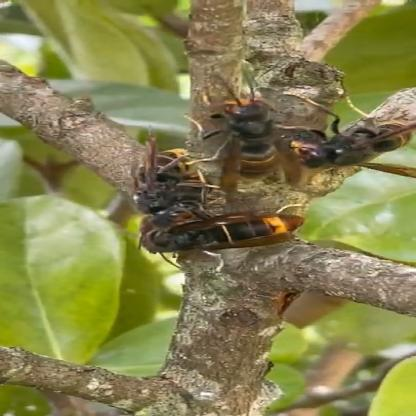bee: (80, 62, 416, 287)
